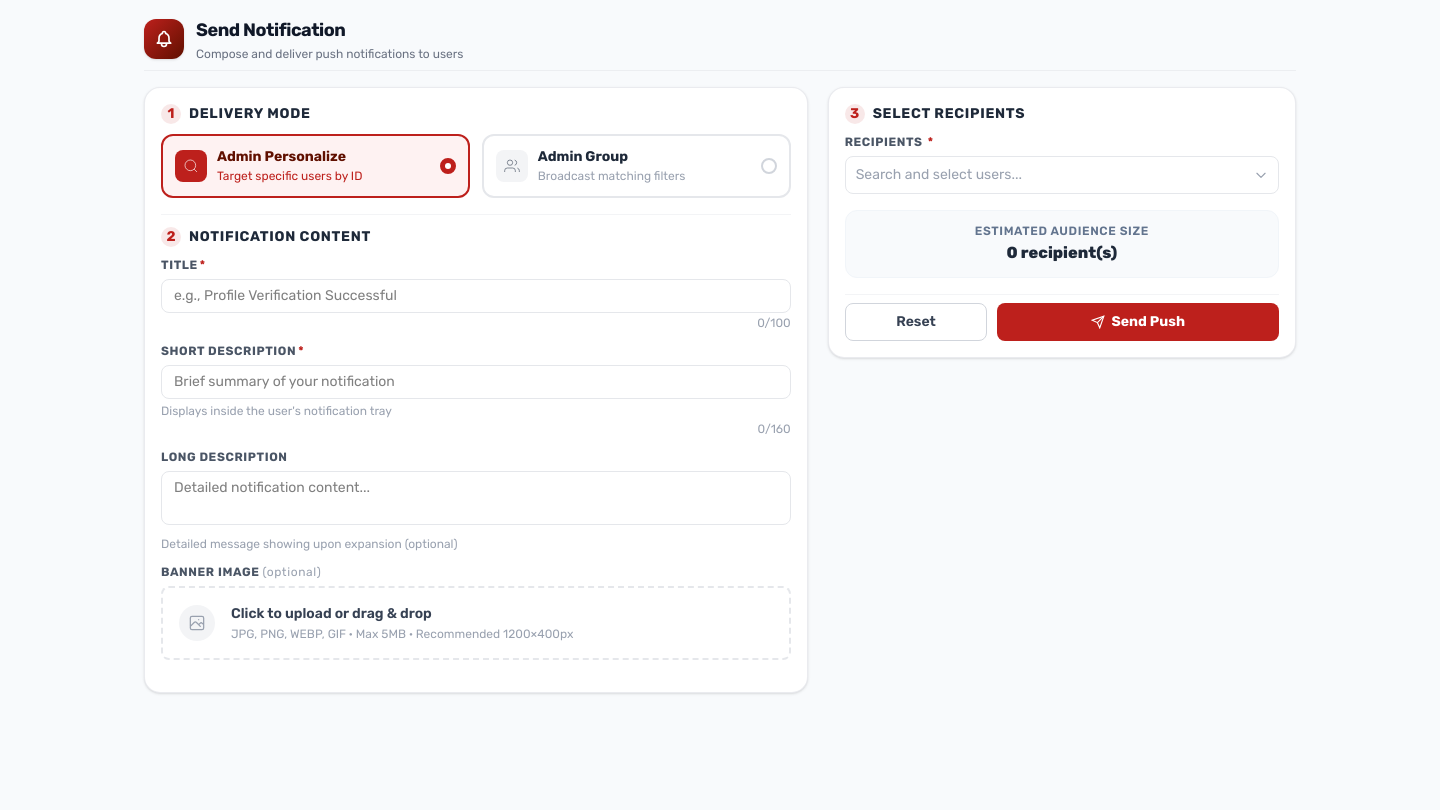
Test: NotificationManagement Component › should show target user validation error when Personalize mode has no recipients
// Fill Title input (label is "Title")
Step 1. Type "Test Title" into the field with placeholder "e.g., Profile Verification Successful" → (476, 296), box [161,278,791,312]
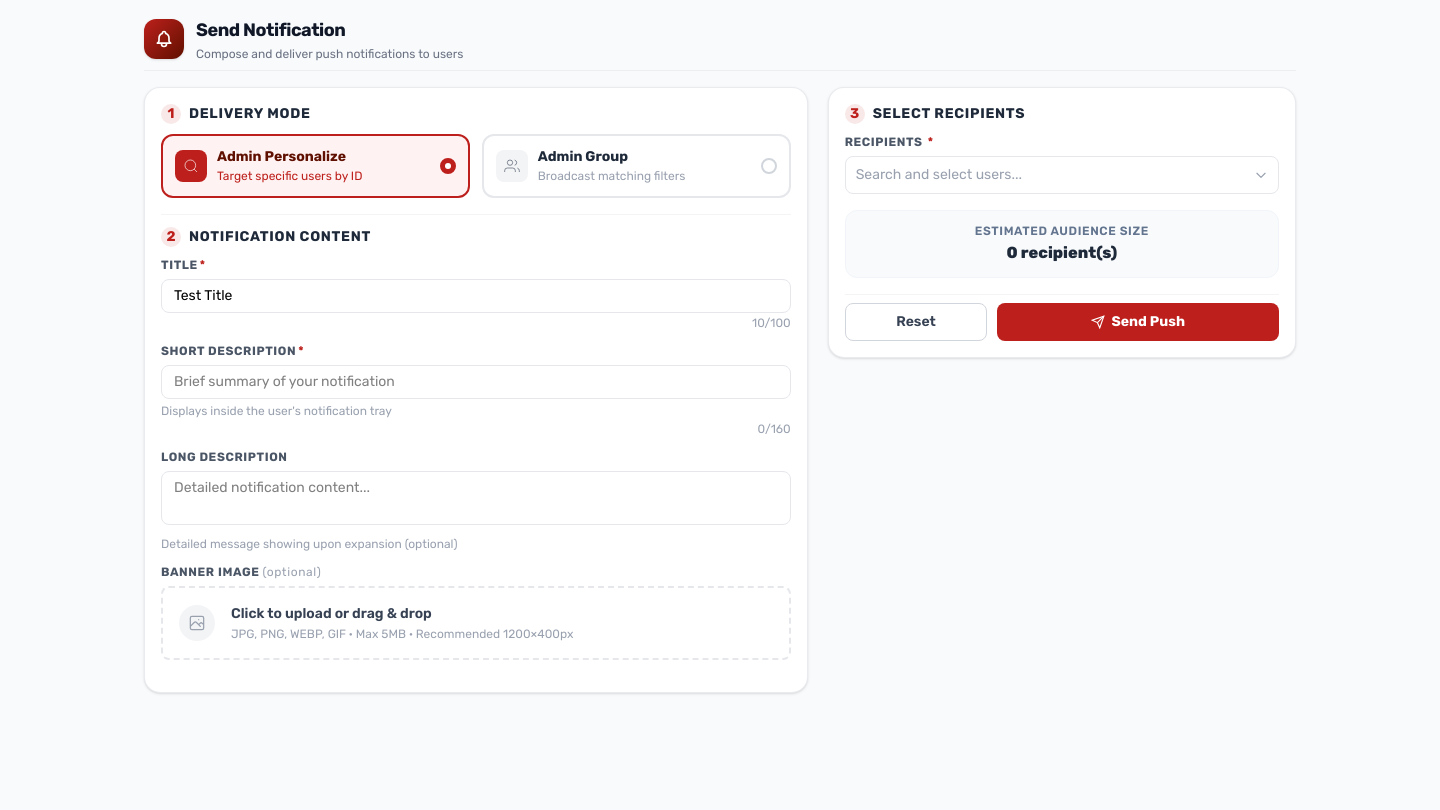
// Fill Short Description input
Step 2. Type "Test description" into the field with placeholder "Brief summary of your notification" → (476, 382), box [161,364,791,398]
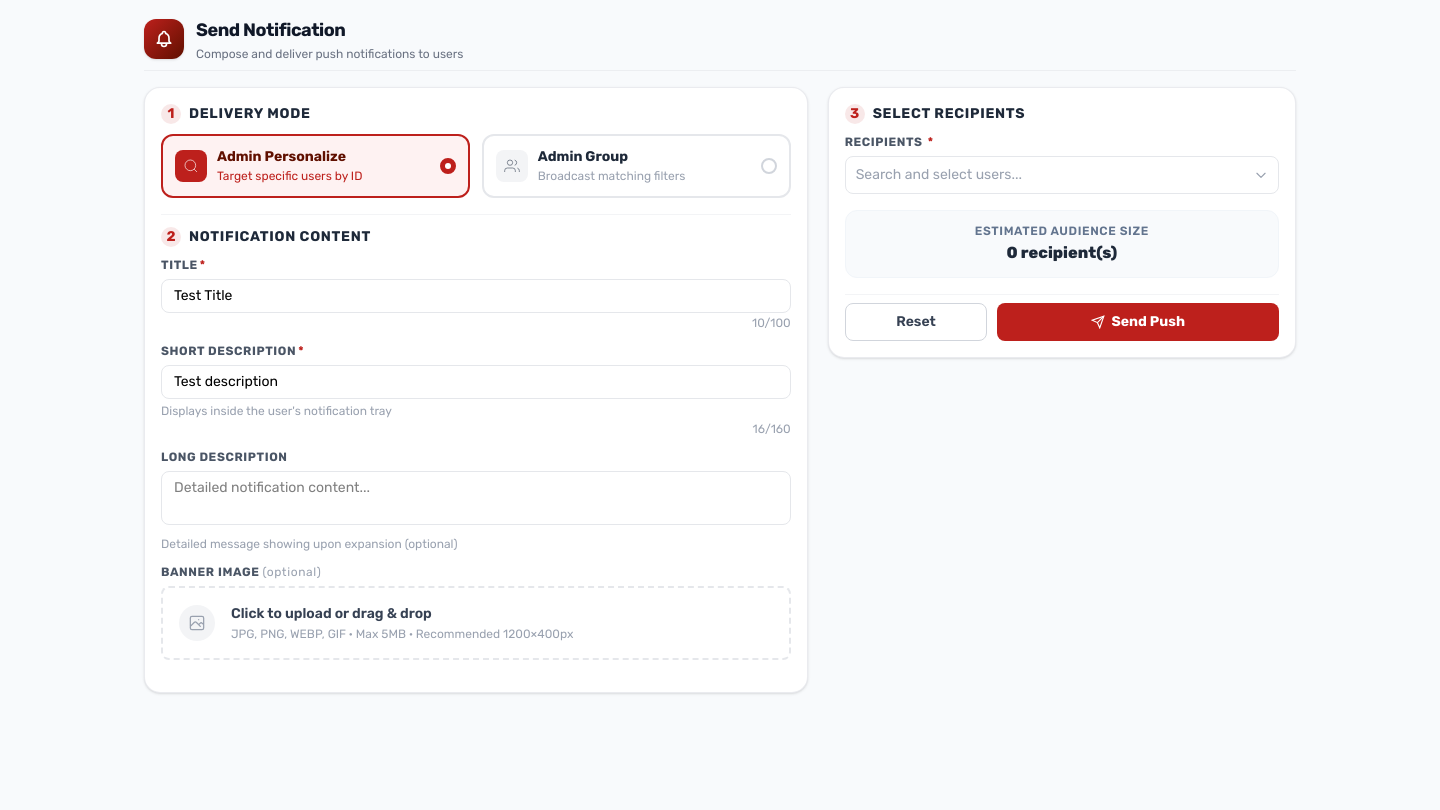
// Submit without selecting users (Admin Personalize mode)
Step 3. Click the button "Send Push" → (1138, 322), box [997,303,1279,341]
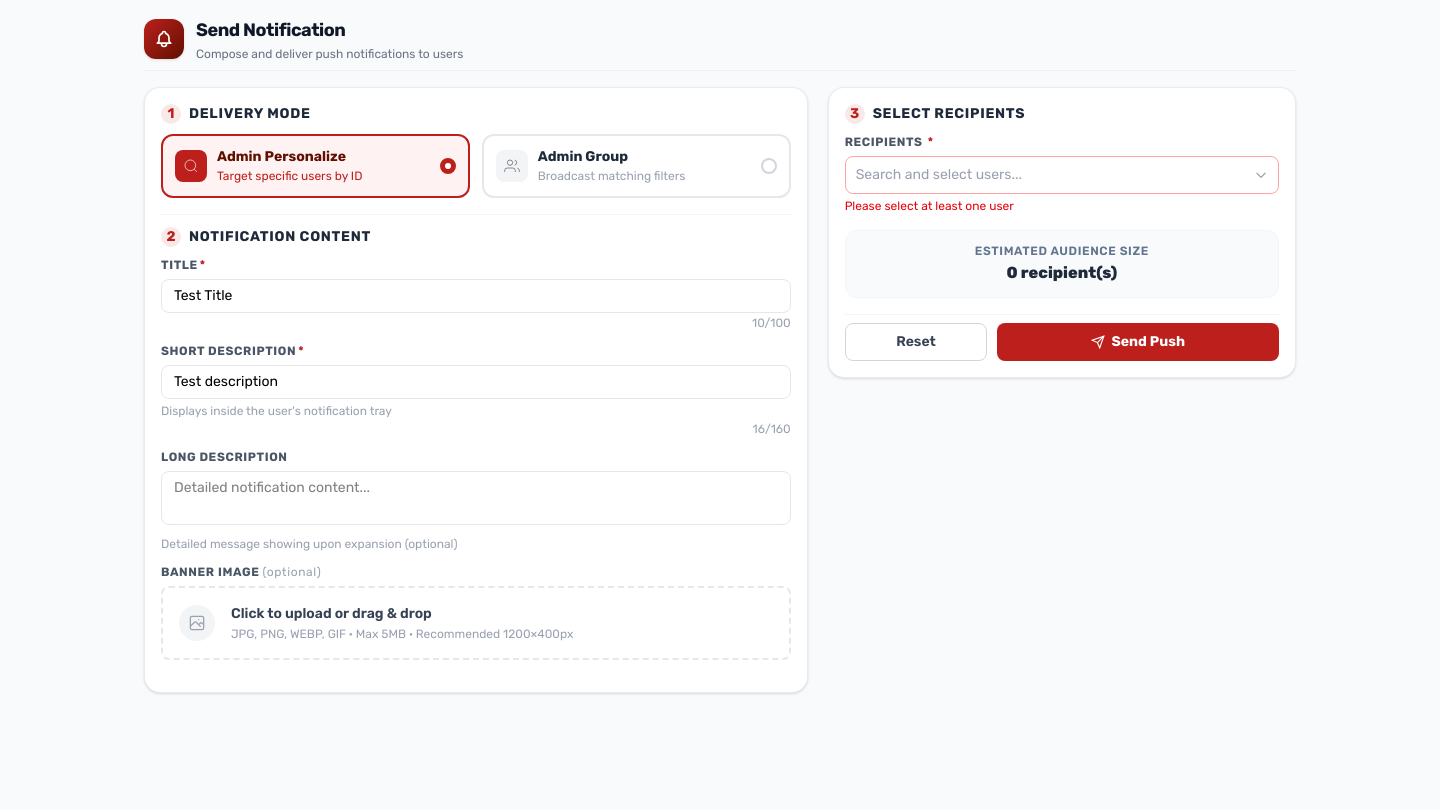
Check: the text "Please select at least one user" is shown, box [845,199,1014,213]
